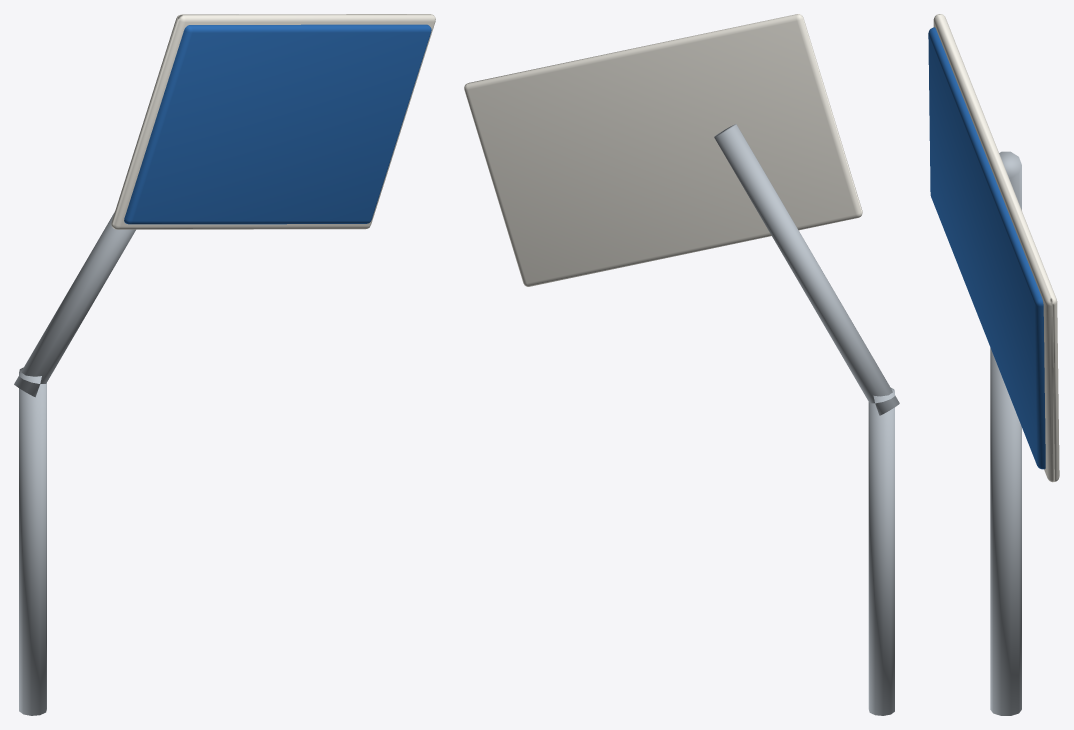
File: sign_bent.glb
3 views of the same model, side by side, from view 1: azimuth 30°, elevation 25°; view 2: azimuth 150°, elevation 25°; view 3: azimuth 270°, elevation 25° (orthographic). The views are drawn at different scales.
Visible parts, largest first — view 1: panel, post_lo, frame, post_hi; view 2: frame, post_hi, post_lo; view 3: panel, post_lo, frame, post_hi.
Part boxes in pixels (x1=…): panel: x1=124, y1=24, x2=431, y2=224; post_lo: x1=19, y1=367, x2=46, y2=715; frame: x1=111, y1=14, x2=435, y2=229; post_hi: x1=14, y1=212, x2=135, y2=397; frame: x1=464, y1=14, x2=862, y2=286; post_hi: x1=714, y1=124, x2=899, y2=415; post_lo: x1=868, y1=388, x2=894, y2=715; panel: x1=928, y1=27, x2=1045, y2=469; post_lo: x1=990, y1=348, x2=1021, y2=715; frame: x1=933, y1=14, x2=1059, y2=482; post_hi: x1=999, y1=151, x2=1021, y2=210.
Bounding box in the file's own units: 1.77 × 2.64 × 0.4139.
